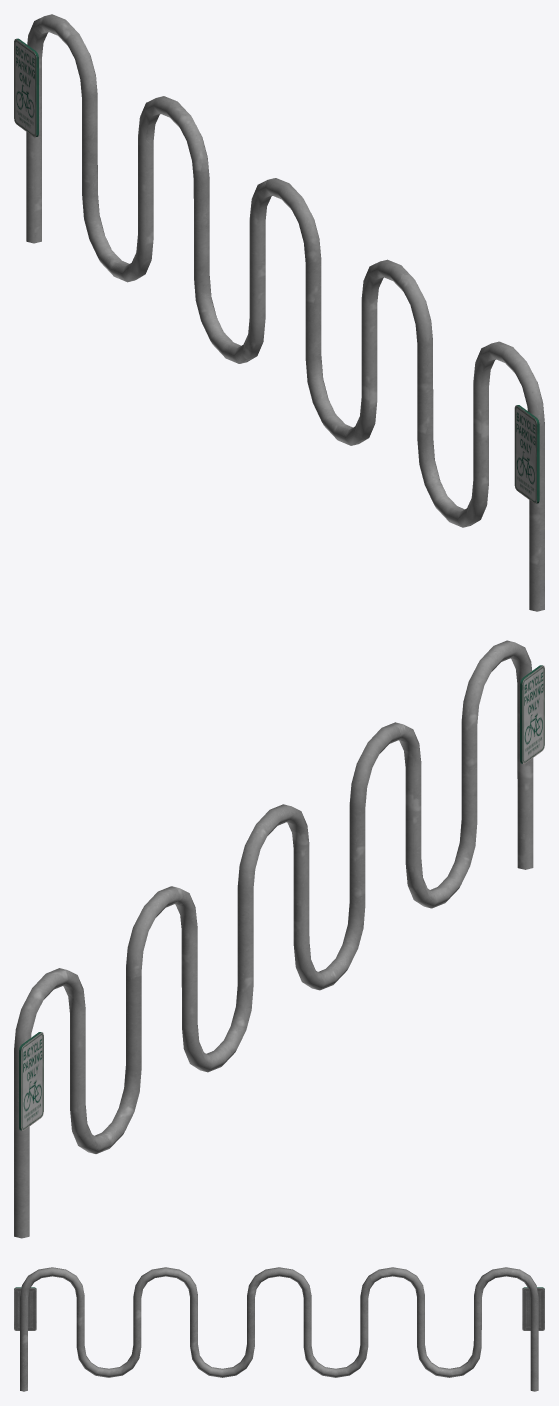
Rendered from MB_Bike_Parking.fbx.
3 renders of one model, top to bottom at view 1: azimuth 30°, elevation 25°; view 2: azimuth 150°, elevation 25°; view 3: azimuth 270°, elevation 25°, orthographic. The views are drawn at different scales.
Visible parts, largest first — view 1: MB_Bike_Parking_LOD0; view 2: MB_Bike_Parking_LOD0; view 3: MB_Bike_Parking_LOD0.
Part boxes in pixels (x1,y1,x2,y2): MB_Bike_Parking_LOD0: [14, 14, 544, 611]; MB_Bike_Parking_LOD0: [14, 640, 544, 1238]; MB_Bike_Parking_LOD0: [14, 1267, 544, 1391].
Size of what is drawn, in the model's own units: 5.48 by 71.01 by 281.
